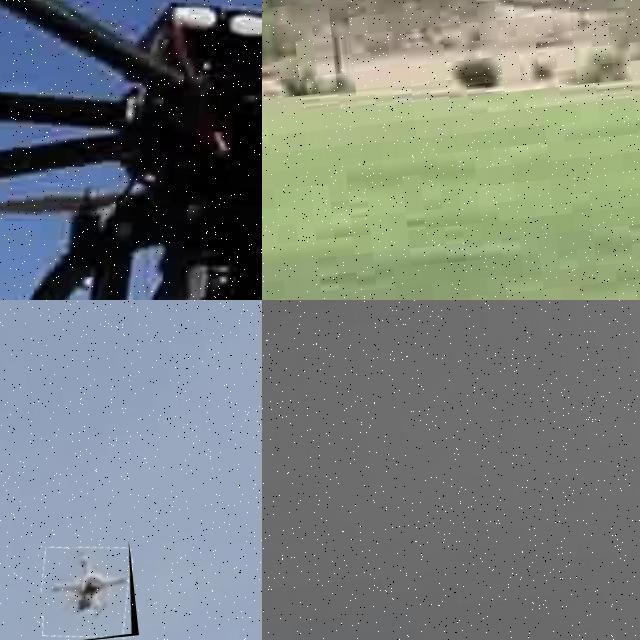0: (0, 0, 262, 300)
drone: (36, 541, 138, 640)
